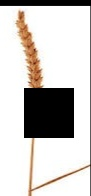wheat: (13, 7, 45, 112)
